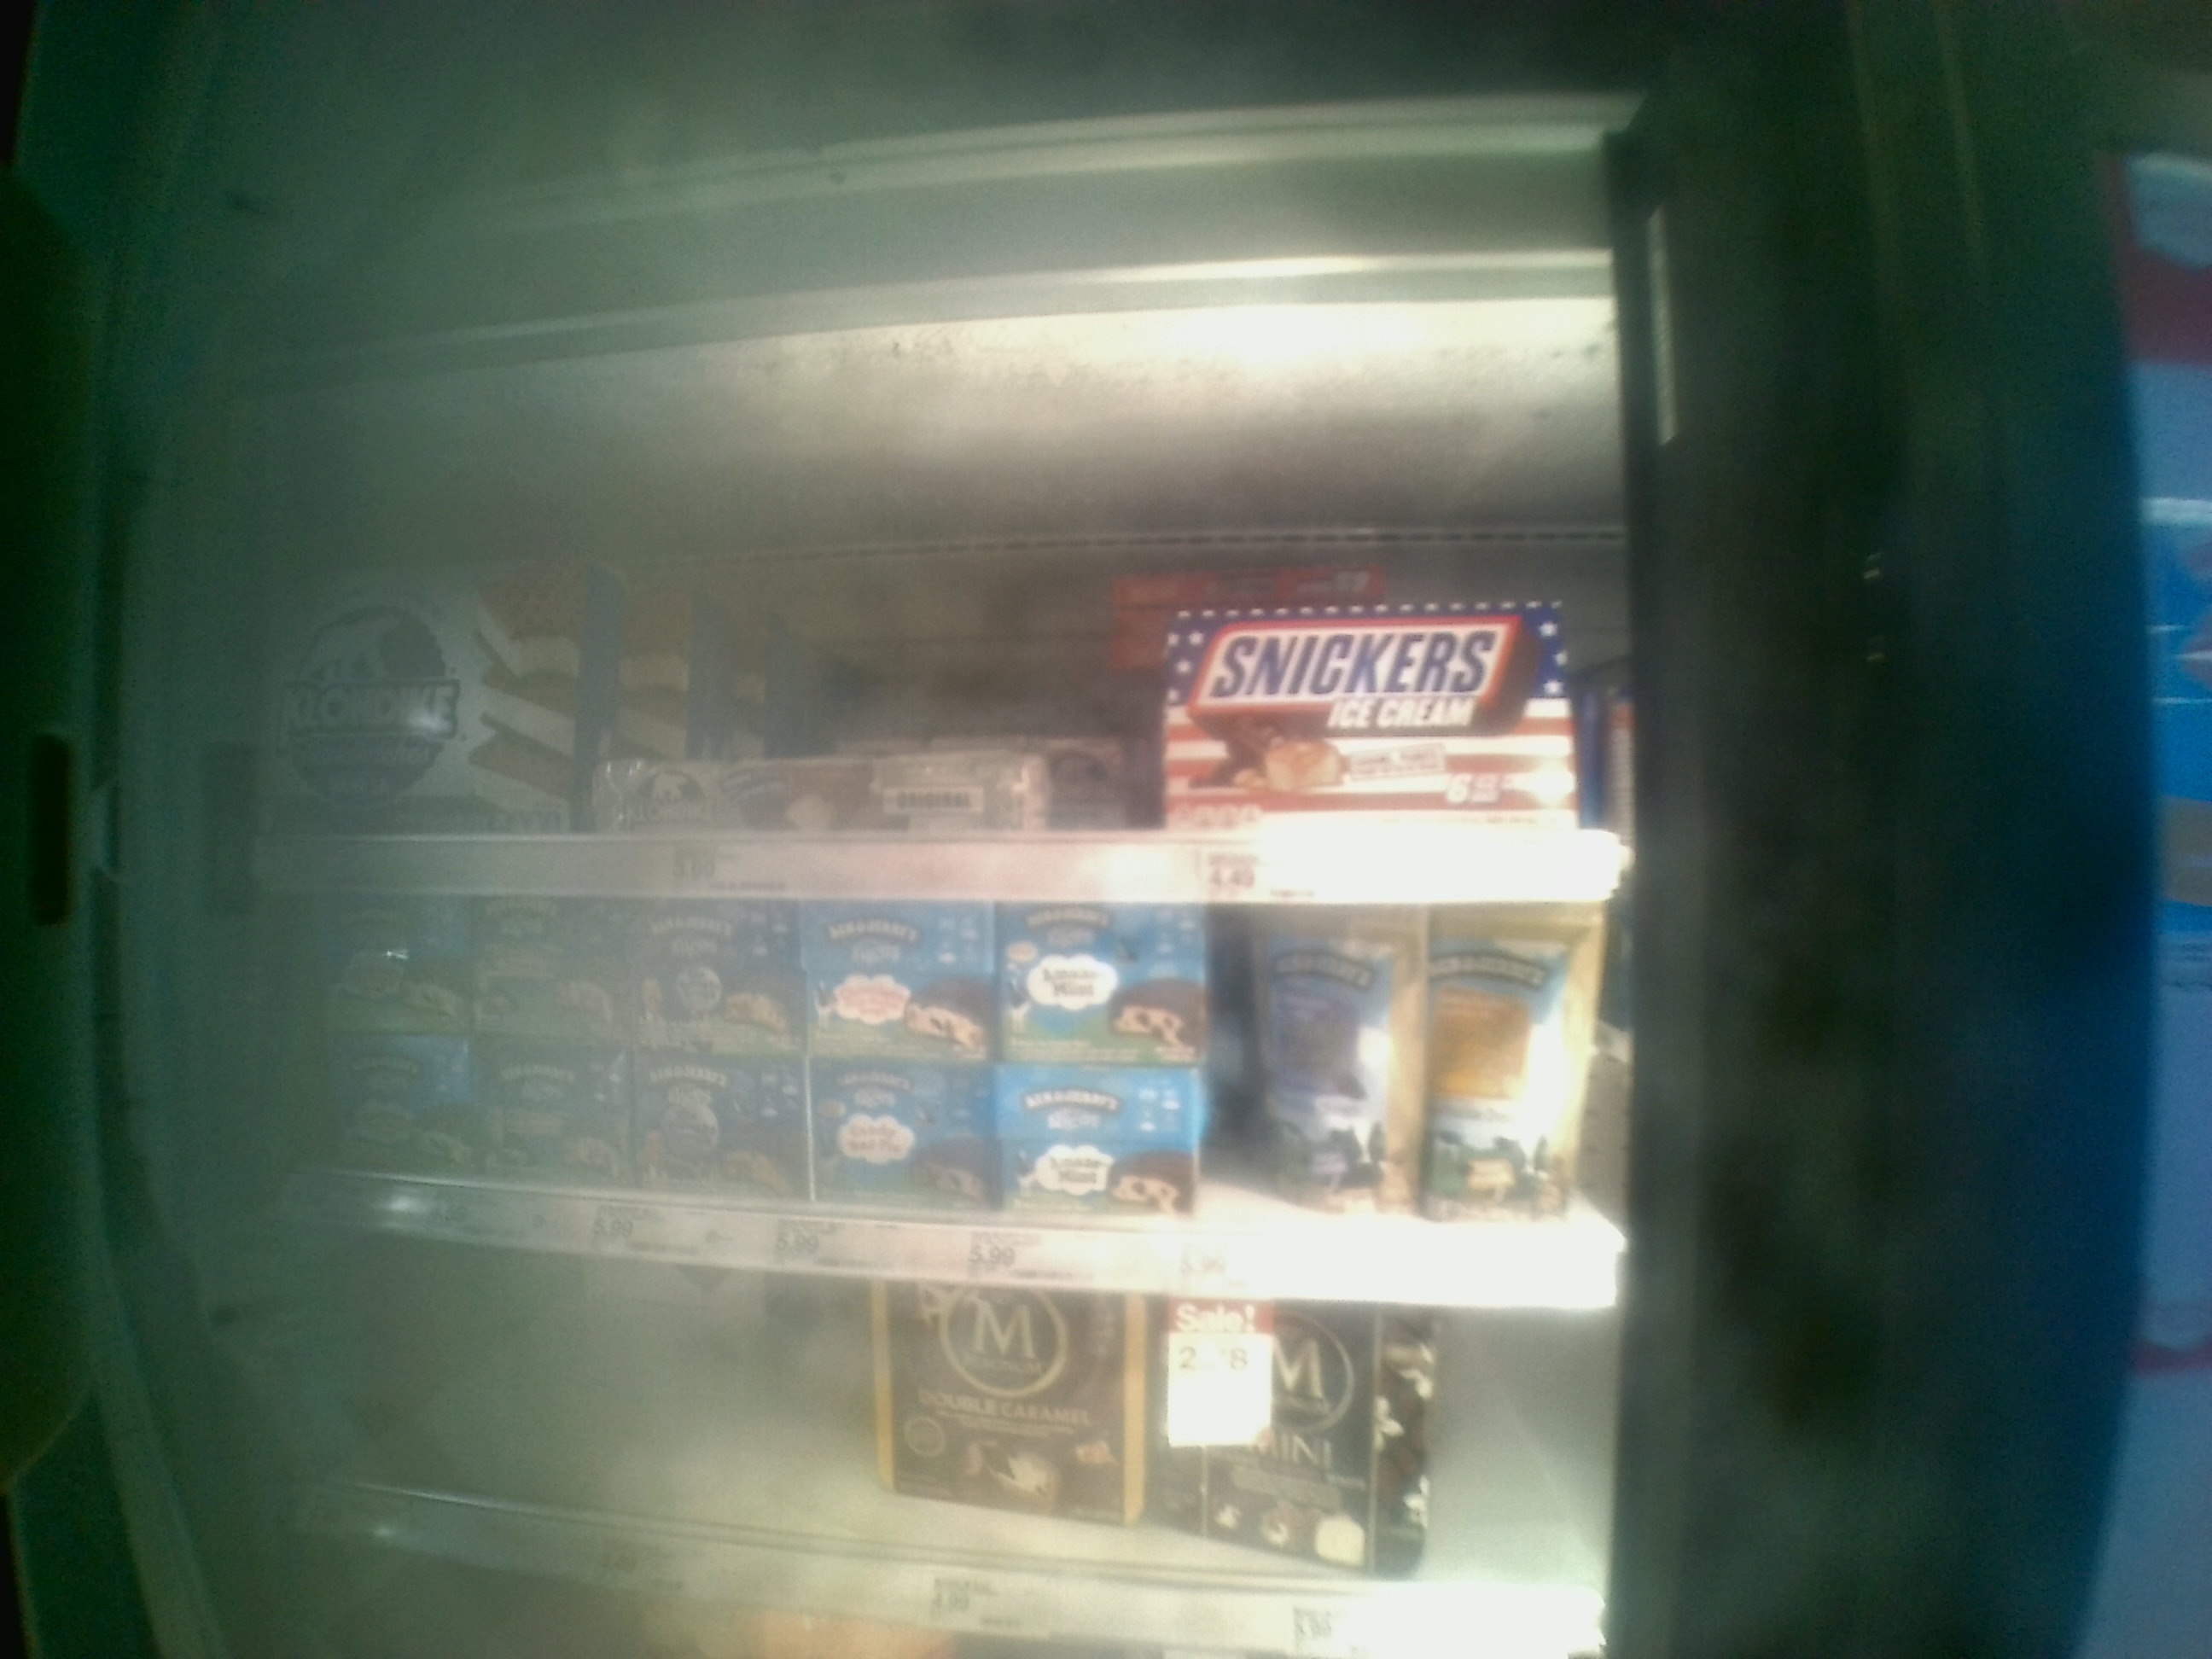shelf: (225, 416, 1618, 910), (225, 903, 1618, 1321)
